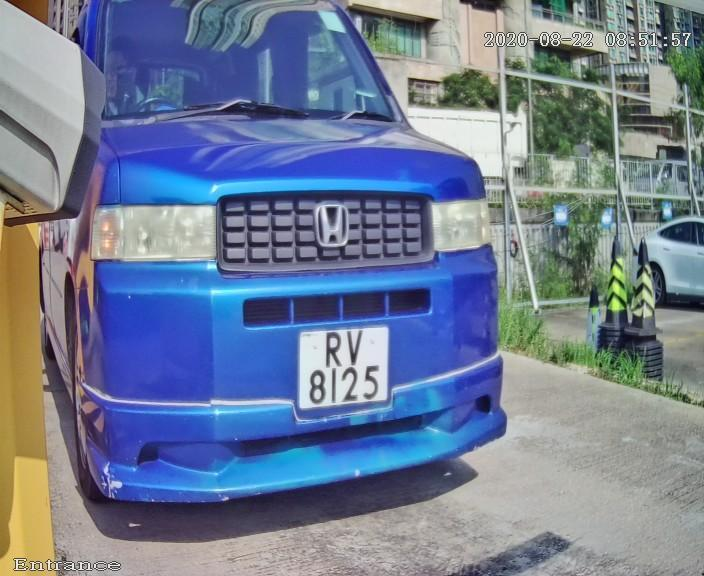License Plate: (290, 307, 397, 427)
